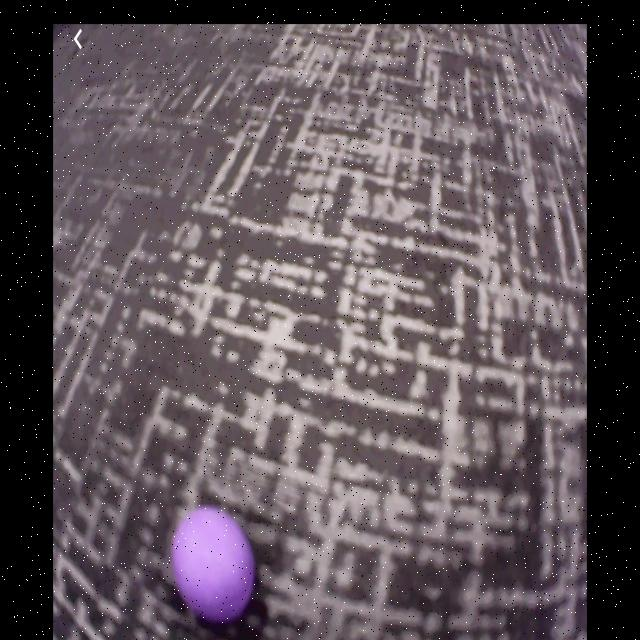ball: (173, 508, 255, 618)
